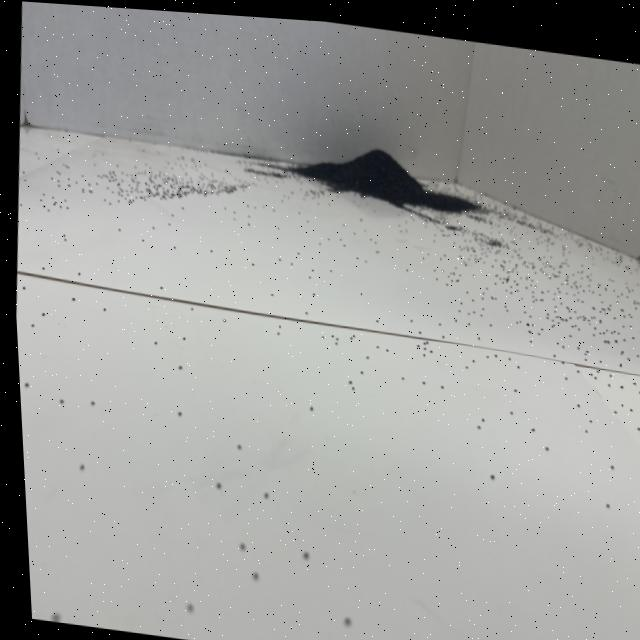Poppy Seeds: (293, 114, 476, 234)
